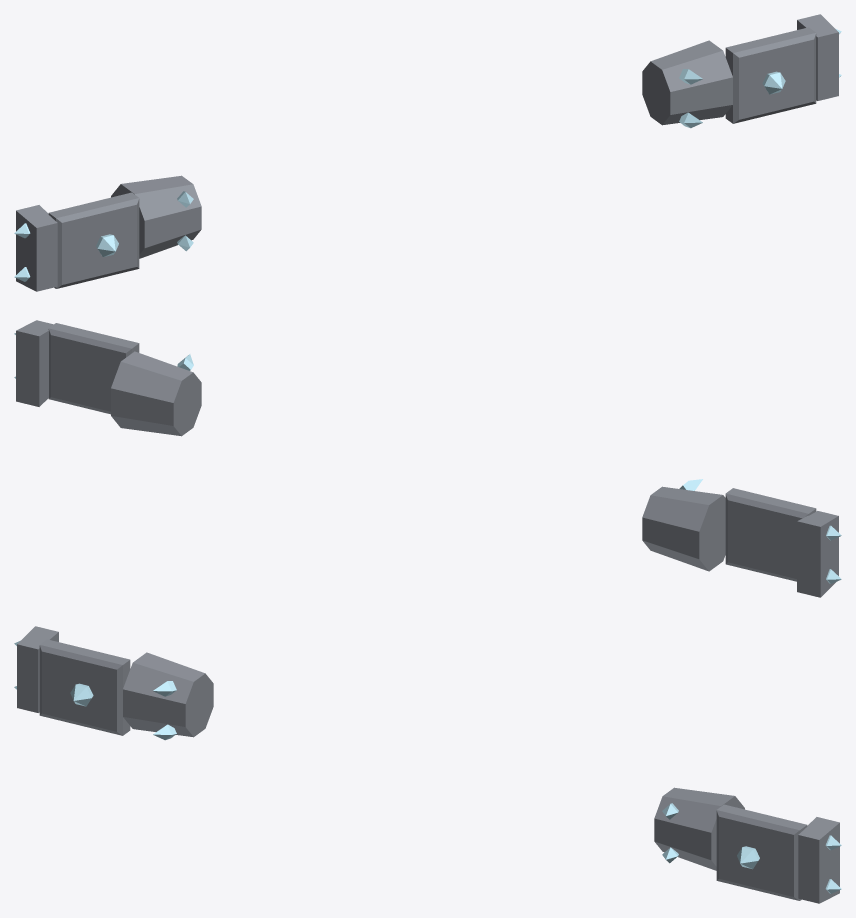
Rendered from stormfists.glb.
3 renders of one model, top to bottom at view 1: azimuth 30°, elevation 25°; view 2: azimuth 150°, elevation 25°; view 3: azimuth 330°, elevation 25°, orthographic.
Parts seen in each view (by area): view 1: Fist1L, Fist1R, LowerArmL, LowerArmR, Fist2R, Fist2L; view 2: LowerArmL, LowerArmR, Fist1R, Fist1L, Fist2R, Fist2L; view 3: Fist1R, Fist1L, LowerArmR, LowerArmL, Fist2L, Fist2R.
Part boxes in pixels (x1,y1,x2,y2): Fist1L: (725,27,816,123); Fist1R: (48,192,139,288); LowerArmL: (642,40,732,128); LowerArmR: (111,175,201,258); Fist2R: (14,205,57,291); Fist2L: (797,14,841,100); LowerArmL: (111,351,201,436); LowerArmR: (642,479,725,571); Fist1R: (725,488,816,581); Fist1L: (48,323,139,414); Fist2R: (797,511,841,597); Fist2L: (14,320,53,406); Fist1R: (39,639,130,735); Fist1L: (716,804,807,900); LowerArmR: (123,652,213,740); LowerArmL: (654,787,744,870); Fist2L: (798,817,841,903); Fist2R: (14,626,58,712).
Size of the model in its own units: 3.18 by 0.26 by 0.2922.
